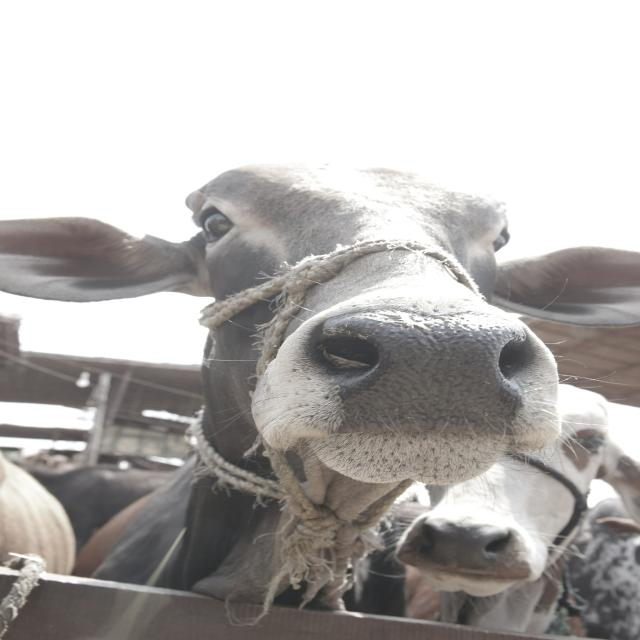muzzles: (310, 307, 544, 438), (408, 514, 524, 583)
